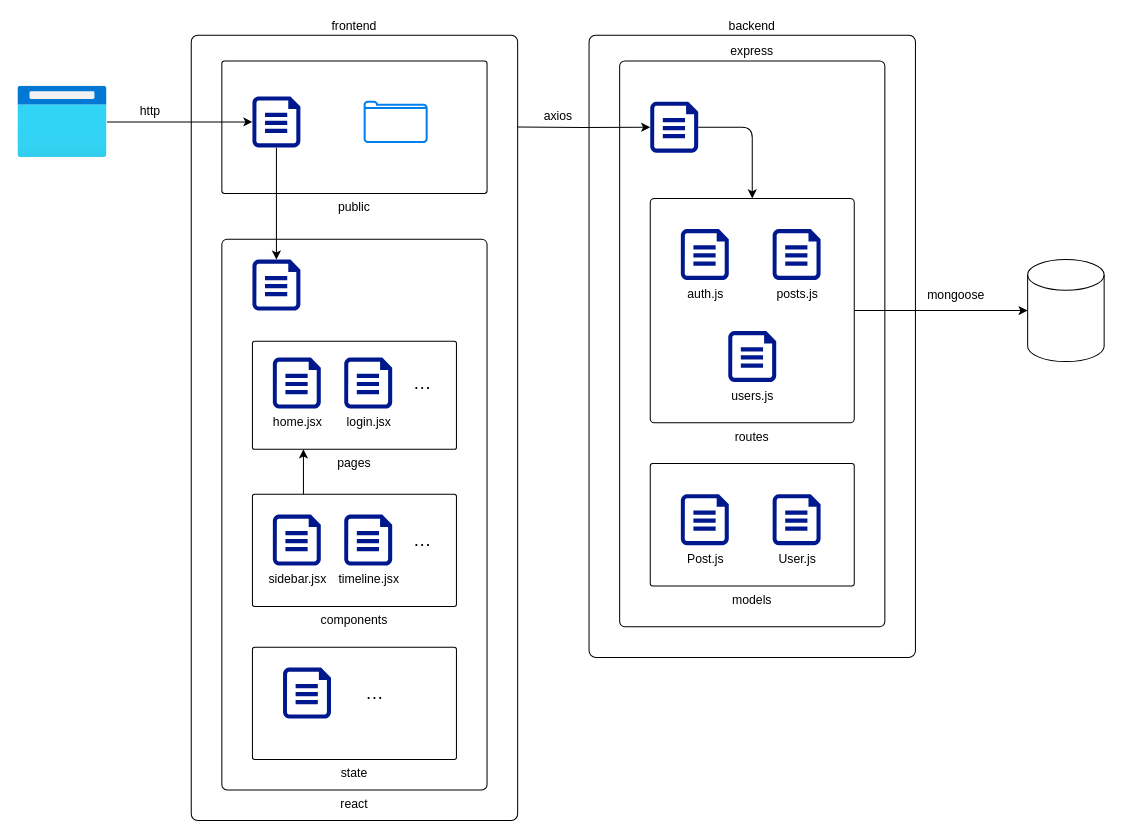
This 1122x838 diagram has some shape labels left out. The centre of each missing label's shape, as x and y in pixels:
assets: pixel 395 121
Authxxx.js: pixel 306 692
index.html: pixel 276 121
index.js: pixel 276 284
mongodb: pixel 1065 310
server.js: pixel 674 126
